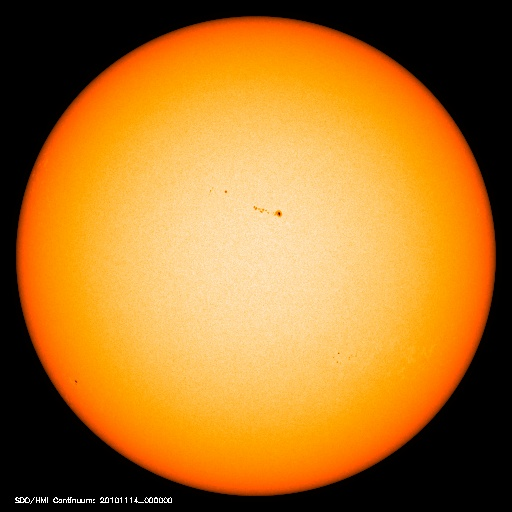sunspot: (201, 179, 289, 222), (326, 340, 364, 370), (60, 370, 97, 394)
